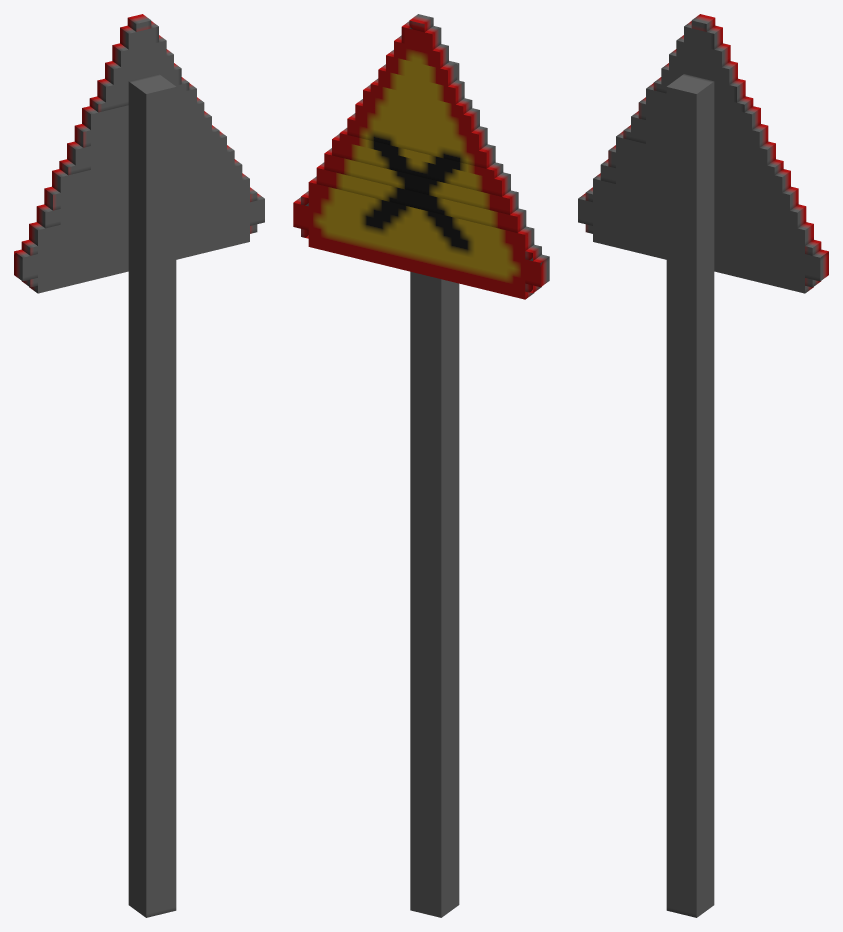
3 renders of one model, left to right at view 1: azimuth 30°, elevation 25°; view 2: azimuth 150°, elevation 25°; view 3: azimuth 330°, elevation 25°, orthographic. The views are drawn at different scales.
Parts seen in each view (by area): view 1: Content; view 2: Content; view 3: Content.
Boxes of the visible parts, x1,y1,x2,y2 form: Content: (14,14,264,917); Content: (293,14,549,917); Content: (578,14,828,917).
Size of the model in its own units: 32 by 111 by 6.
Materials: 1 (1 with a texture image).
